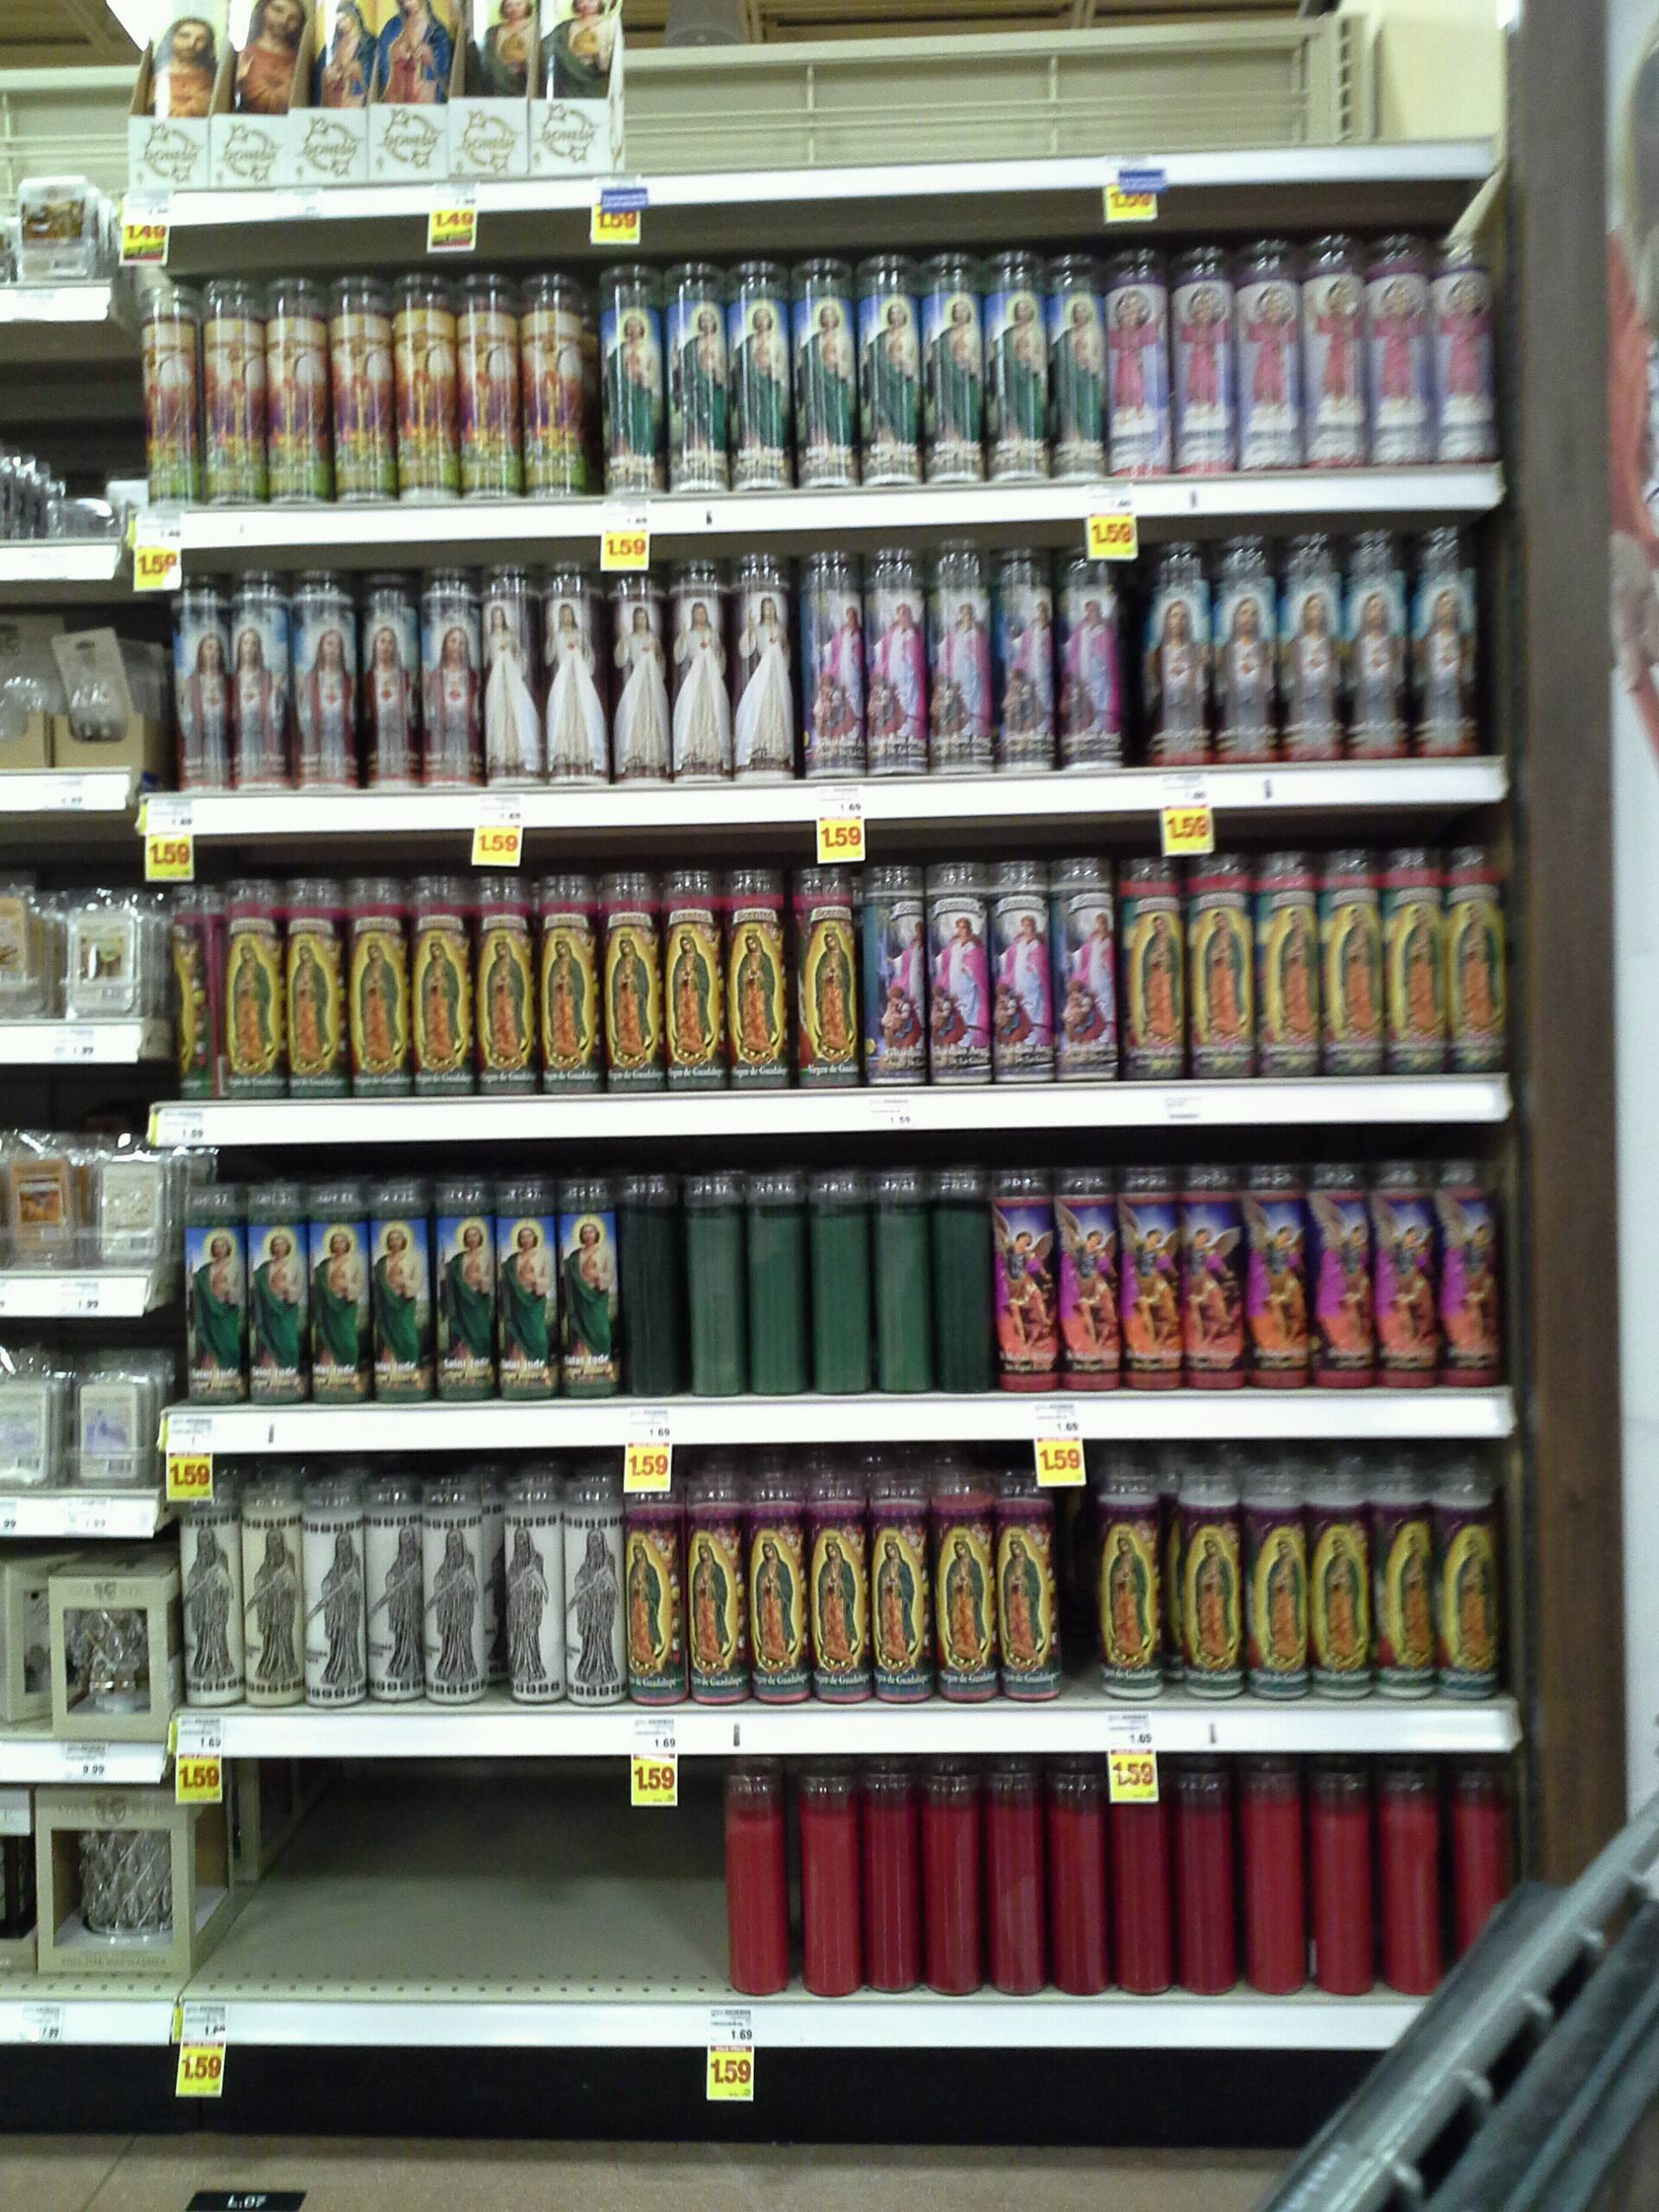Out-of-stock: (204, 1804, 723, 1996)
